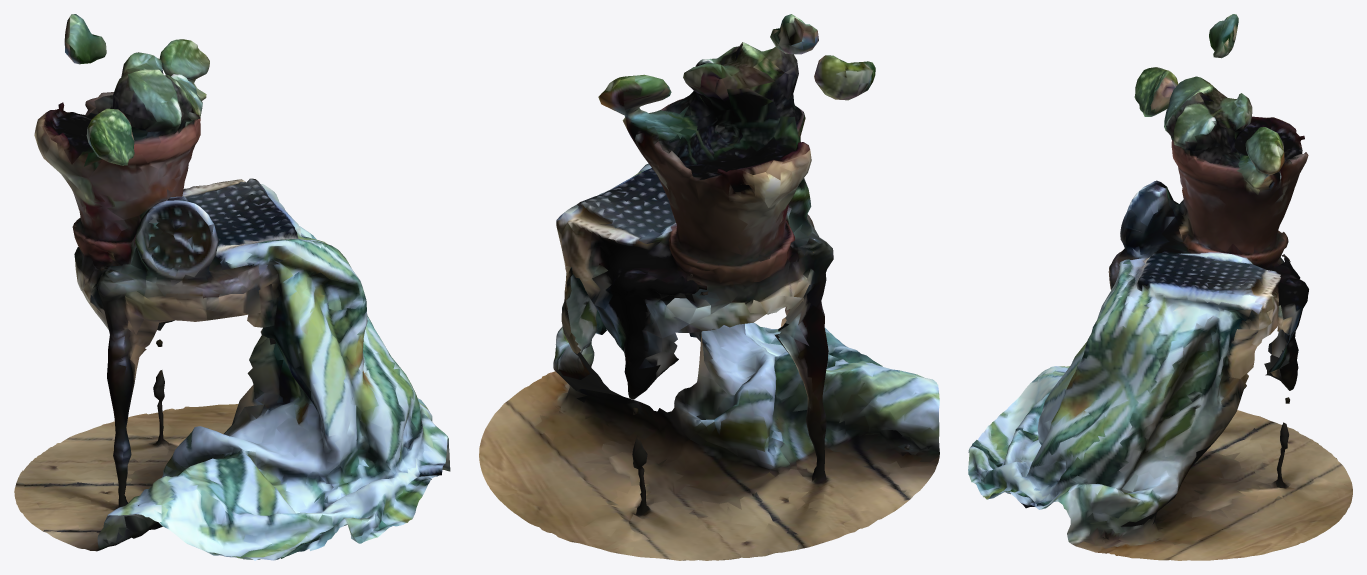
The model's file is carmen.glb.
3 views of the same model, side by side, from view 1: azimuth 30°, elevation 25°; view 2: azimuth 150°, elevation 25°; view 3: azimuth 270°, elevation 25° (orthographic). The views are drawn at different scales.
Parts seen in each view (by area): view 1: model; view 2: model; view 3: model.
Part boxes in pixels (x1,y1,x2,y2): model: (14, 14, 450, 560); model: (479, 14, 939, 560); model: (968, 14, 1352, 560).
Size of the model in its own units: 2.41 by 2.94 by 2.4.
1 material, 1 textured.
